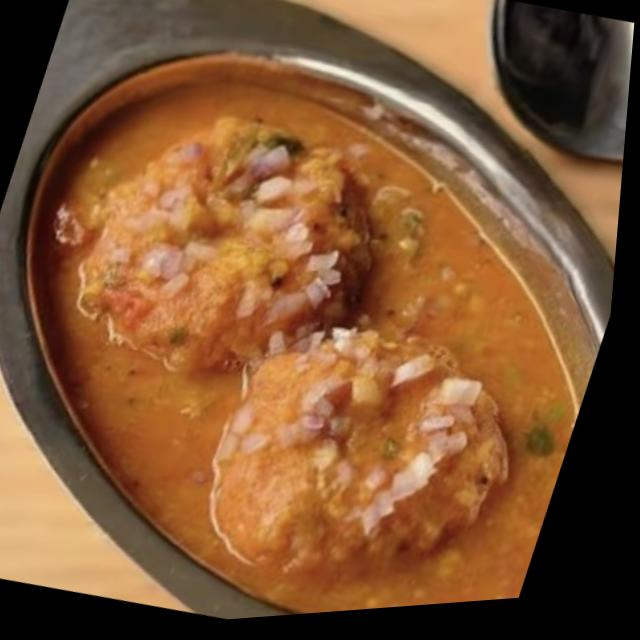SAMBAR: (40, 76, 576, 613)
